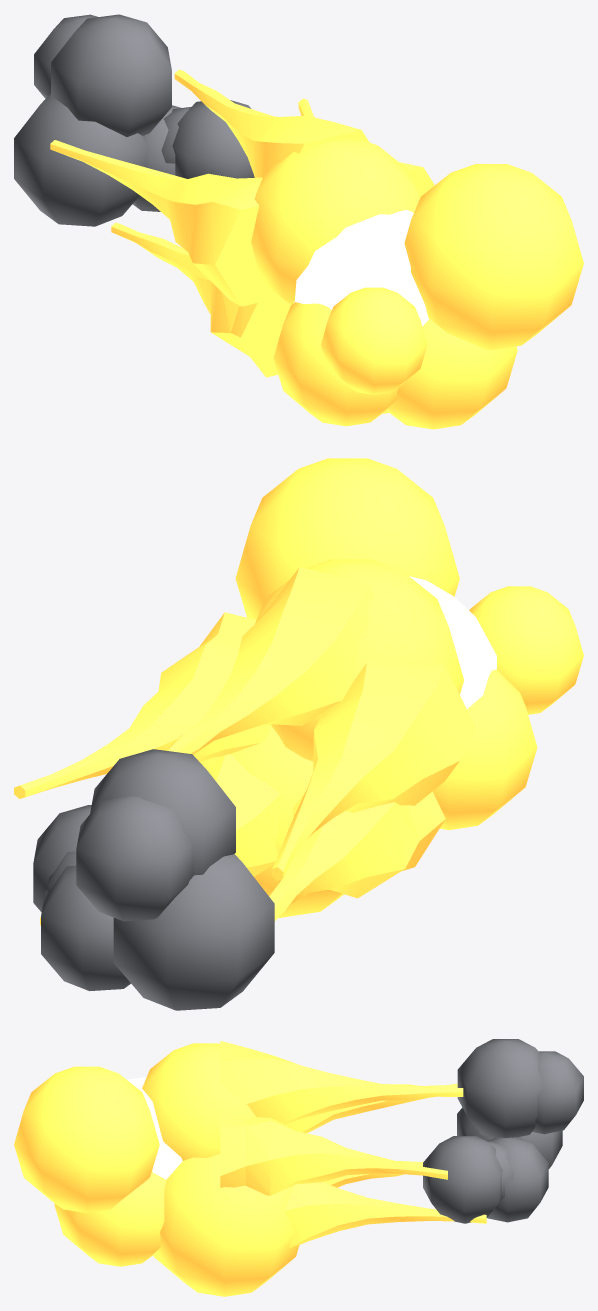
Rendered from fx_fireball.glb.
The picture shows the model from 3 angles, top to bottom: view 1: azimuth 30°, elevation 25°; view 2: azimuth 150°, elevation 25°; view 3: azimuth 270°, elevation 25°; orthographic projection. The views are drawn at different scales.
Parts seen in each view (by area): view 1: fireball-with-tail; view 2: fireball-with-tail; view 3: fireball-with-tail.
Boxes of the visible parts, x1,y1,x2,y2 form: fireball-with-tail: [14, 14, 583, 429]; fireball-with-tail: [14, 458, 583, 1010]; fireball-with-tail: [14, 1039, 583, 1296].
Bounding box in the file's own units: 0.4114 × 0.413 × 0.9317.
